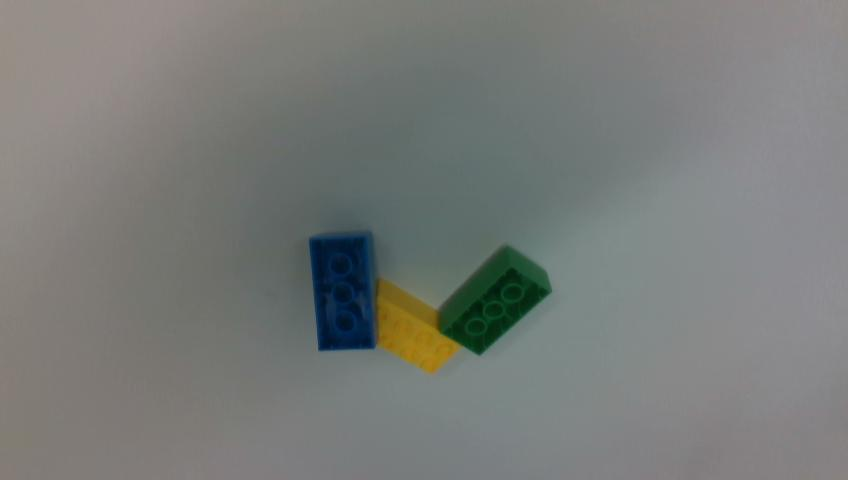4x2_blue: (310, 234, 373, 349)
4x2_green: (440, 246, 551, 354)
4x2_yellow: (378, 280, 460, 372)
